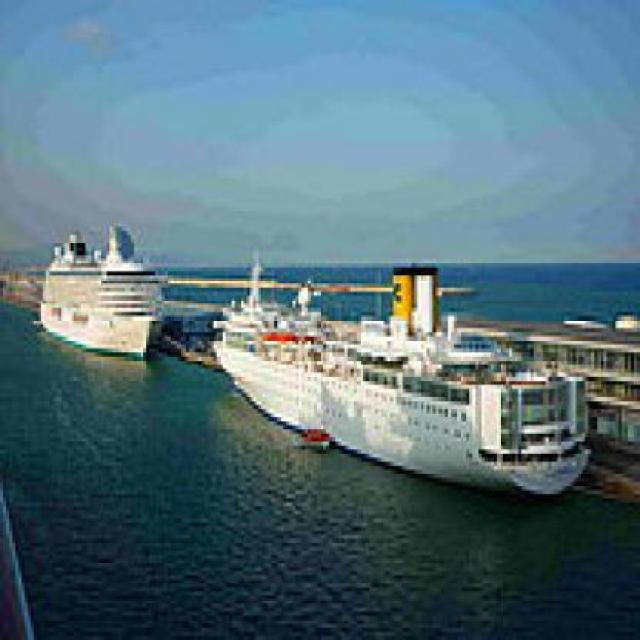cruise: (214, 240, 608, 516), (32, 220, 175, 366)
